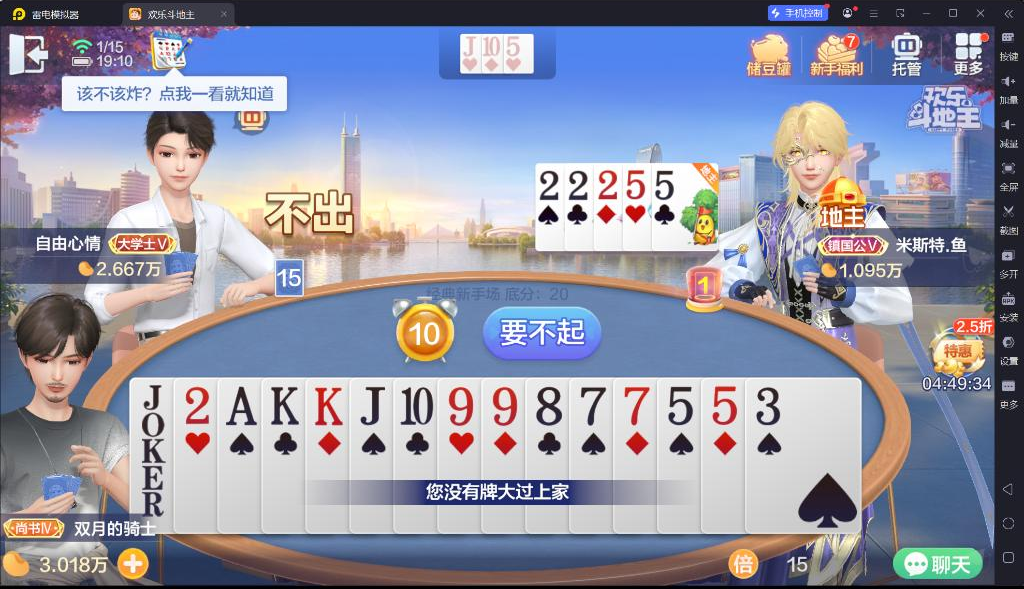A: (224, 382, 258, 428)
J: (355, 384, 388, 428), (462, 35, 478, 57)
K: (266, 383, 303, 427), (312, 383, 346, 429)
eight: (534, 384, 564, 428)
five: (708, 381, 740, 427), (662, 385, 696, 428), (623, 165, 647, 201), (653, 166, 676, 202), (505, 35, 522, 57)
joker: (139, 382, 166, 466)
nine: (487, 384, 521, 428), (444, 384, 474, 428)
seven: (575, 384, 609, 428), (620, 383, 653, 426)
ten: (397, 385, 435, 427), (483, 35, 502, 58)
three: (753, 385, 783, 427)
two: (182, 383, 212, 426), (537, 167, 562, 204), (596, 166, 620, 202), (568, 166, 590, 202)
